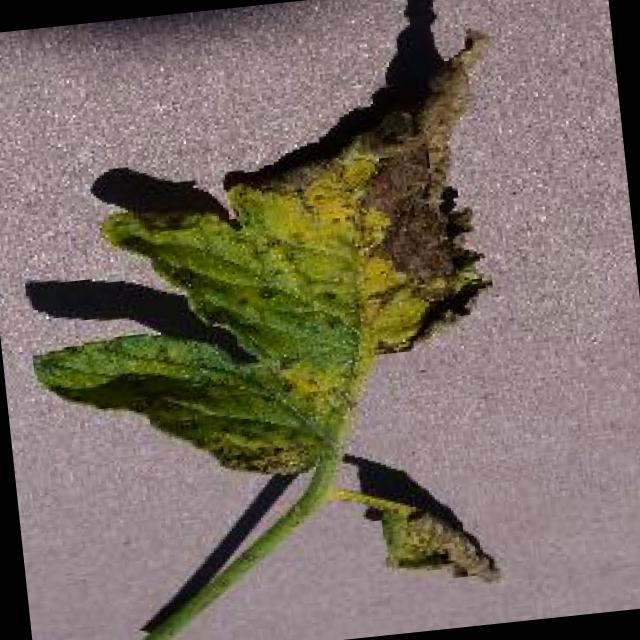Tomato Septoria spot leaf: (2, 27, 550, 626)
